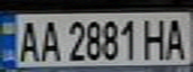1: (118, 16, 142, 61)
2: (63, 17, 87, 62)
8: (84, 17, 106, 62), (103, 17, 121, 61)
A: (12, 17, 42, 63), (160, 15, 190, 61), (36, 17, 63, 63)
H: (139, 15, 172, 61)
